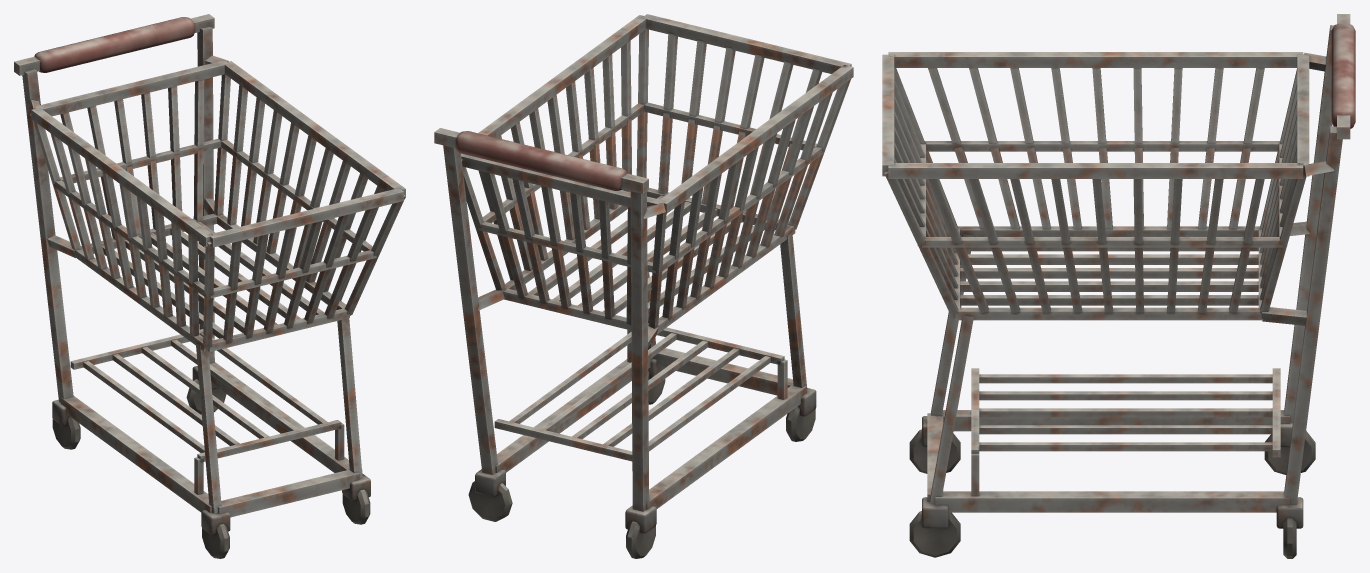
File: shopping_cart.fbx
The picture shows the model from 3 angles, left to right: view 1: azimuth 30°, elevation 25°; view 2: azimuth 150°, elevation 25°; view 3: azimuth 270°, elevation 25°; orthographic projection. The views are drawn at different scales.
Visible parts, largest first — view 1: Body; view 2: Body; view 3: Body.
Boxes of the visible parts, x1,y1,x2,y2 form: Body: (14, 14, 405, 558); Body: (434, 14, 853, 558); Body: (882, 14, 1355, 558).
Size of the model in its own units: 2.06 by 3.71 by 3.53.
Materials: 1 (1 with a texture image).
